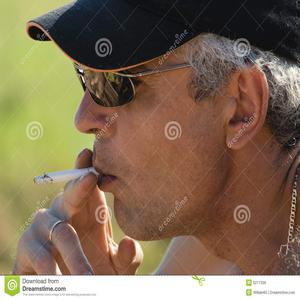cigarette: (33, 165, 98, 189)
